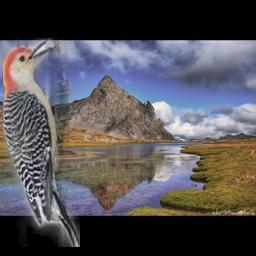Woodpecker: (3, 38, 80, 247)
